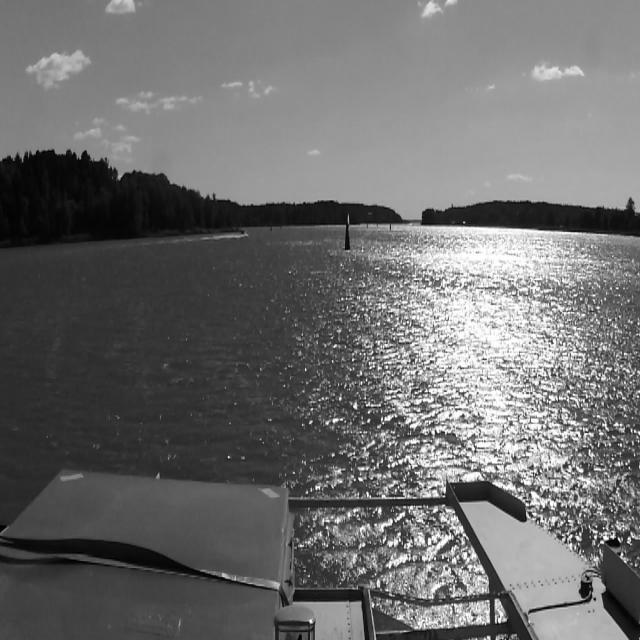buoy: (344, 221, 351, 248), (268, 215, 274, 237)
ship: (236, 225, 250, 244)
